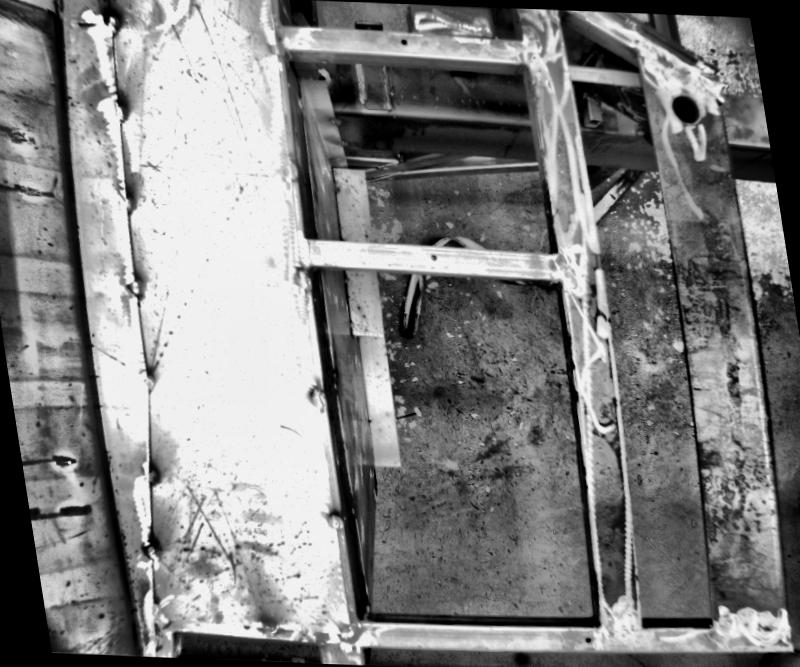hole: (664, 88, 704, 125), (428, 252, 437, 260), (397, 36, 406, 43), (582, 634, 590, 641)
